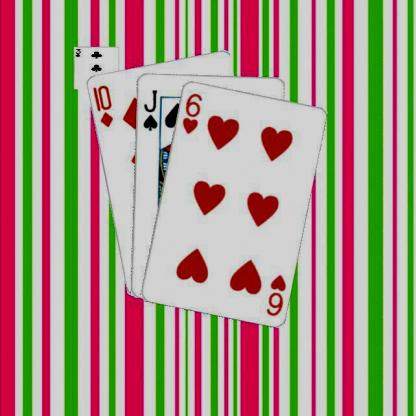10D: (89, 82, 114, 128)
6H: (263, 271, 287, 317), (179, 90, 203, 135)
JS: (140, 87, 158, 131)
